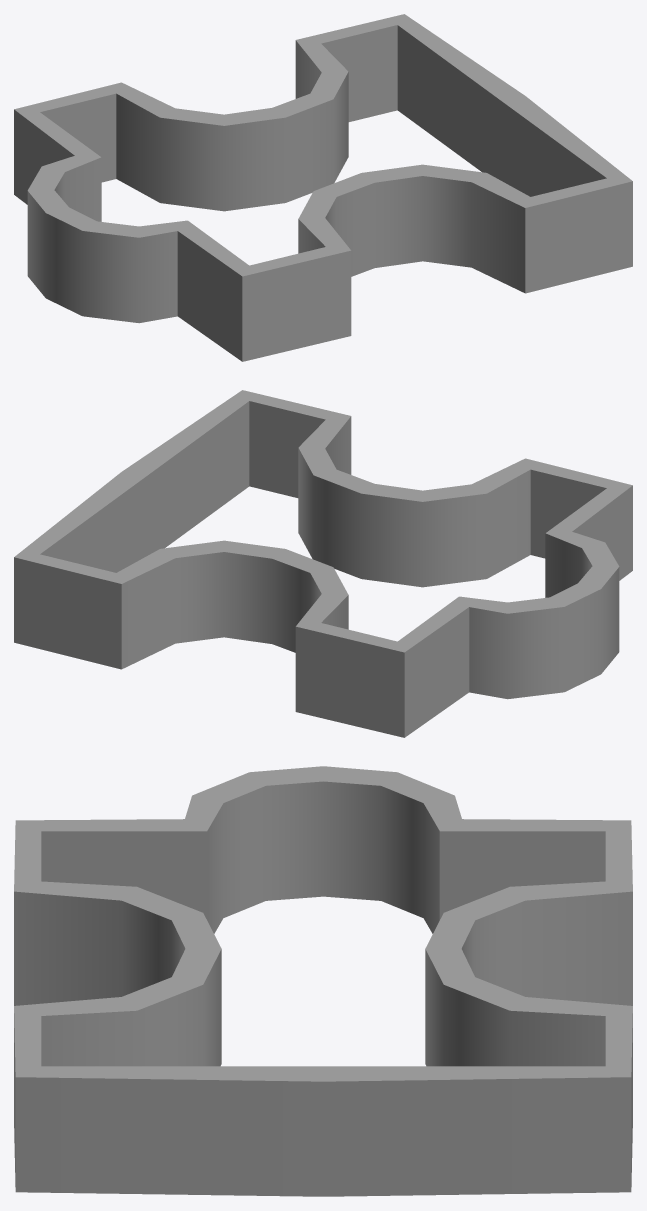
The model's file is BiscuitCutter_PuzzleSide2_01.fbx.
3 views of the same model, one above another, from view 1: azimuth 30°, elevation 25°; view 2: azimuth 150°, elevation 25°; view 3: azimuth 270°, elevation 25° (orthographic). The views are drawn at different scales.
Visible parts, largest first — view 1: BiscuitCutter_PuzzleSide2_01; view 2: BiscuitCutter_PuzzleSide2_01; view 3: BiscuitCutter_PuzzleSide2_01.
Boxes of the visible parts, x1=… form: BiscuitCutter_PuzzleSide2_01: x1=14, y1=14, x2=632, y2=361; BiscuitCutter_PuzzleSide2_01: x1=14, y1=390, x2=632, y2=737; BiscuitCutter_PuzzleSide2_01: x1=14, y1=766, x2=632, y2=1196.
Bounding box in the file's own units: 0.075 × 0.0128 × 0.0622.
